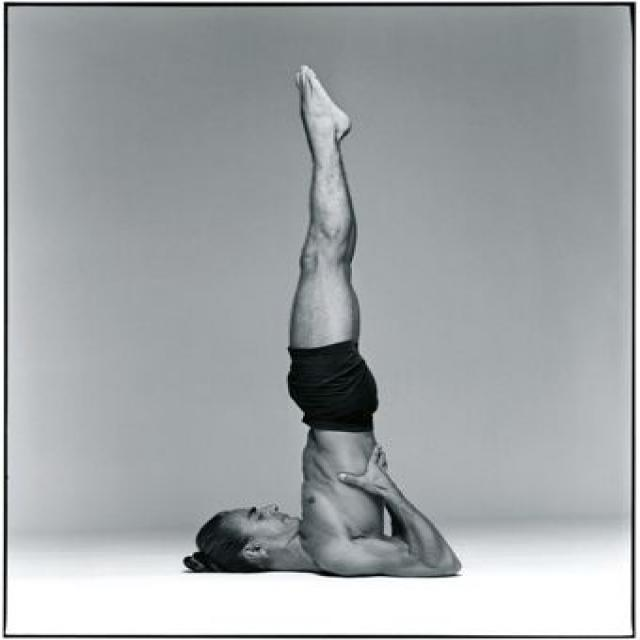yoga-pose shoulderstand: (186, 51, 472, 578)
